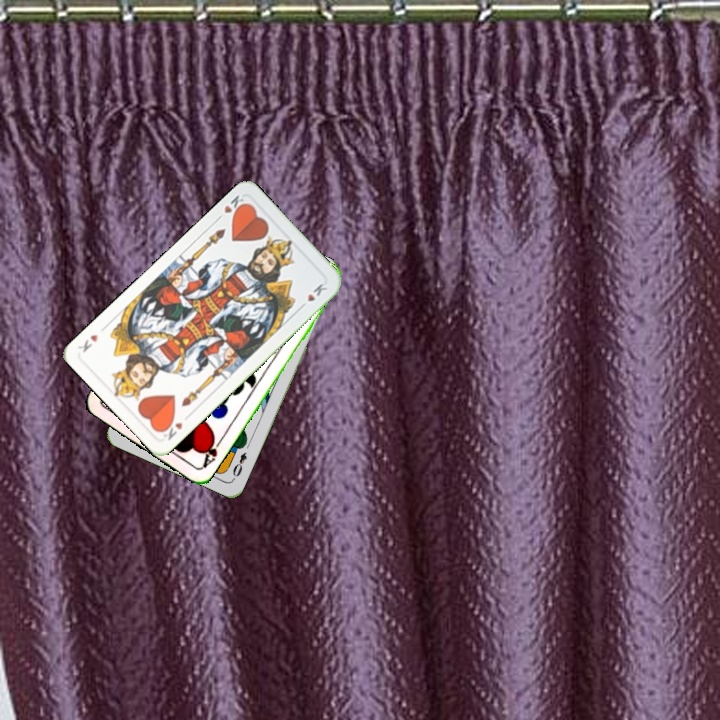EO: (228, 448, 249, 479)
HA: (198, 431, 226, 471)
HK: (212, 191, 250, 223), (156, 415, 185, 443)
